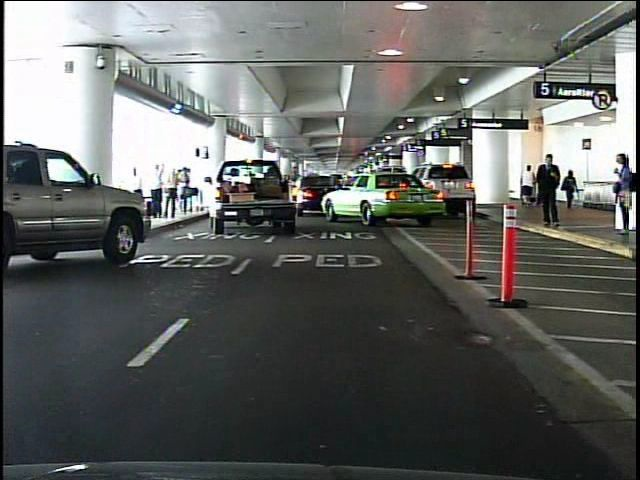person: (534, 147, 564, 233), (608, 151, 634, 240), (562, 168, 581, 212), (522, 162, 537, 209)
